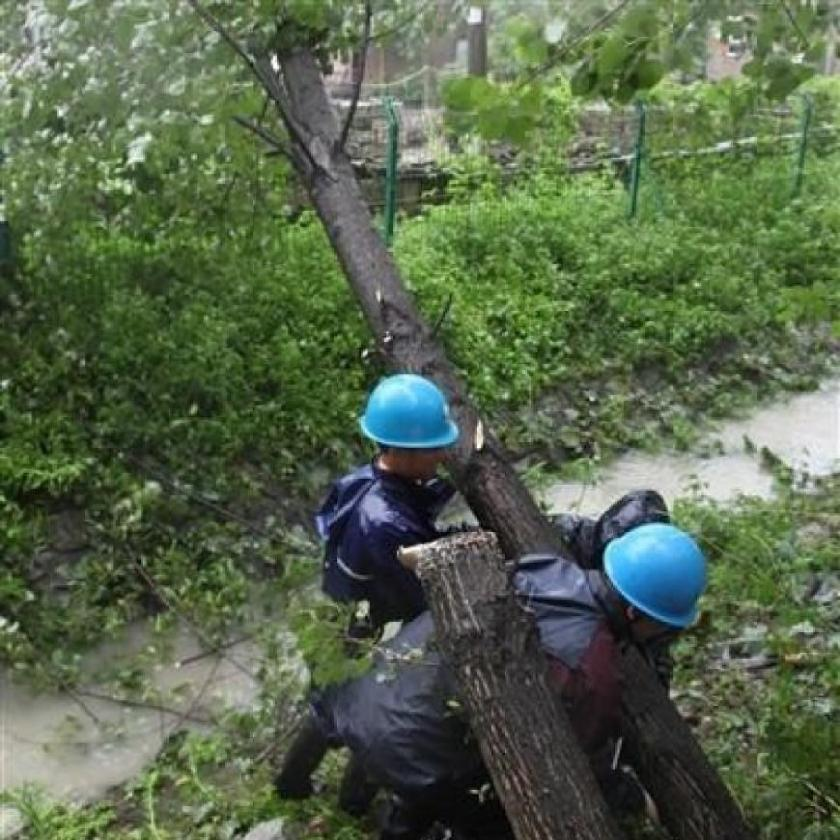Con_casco: (363, 375, 459, 485)
